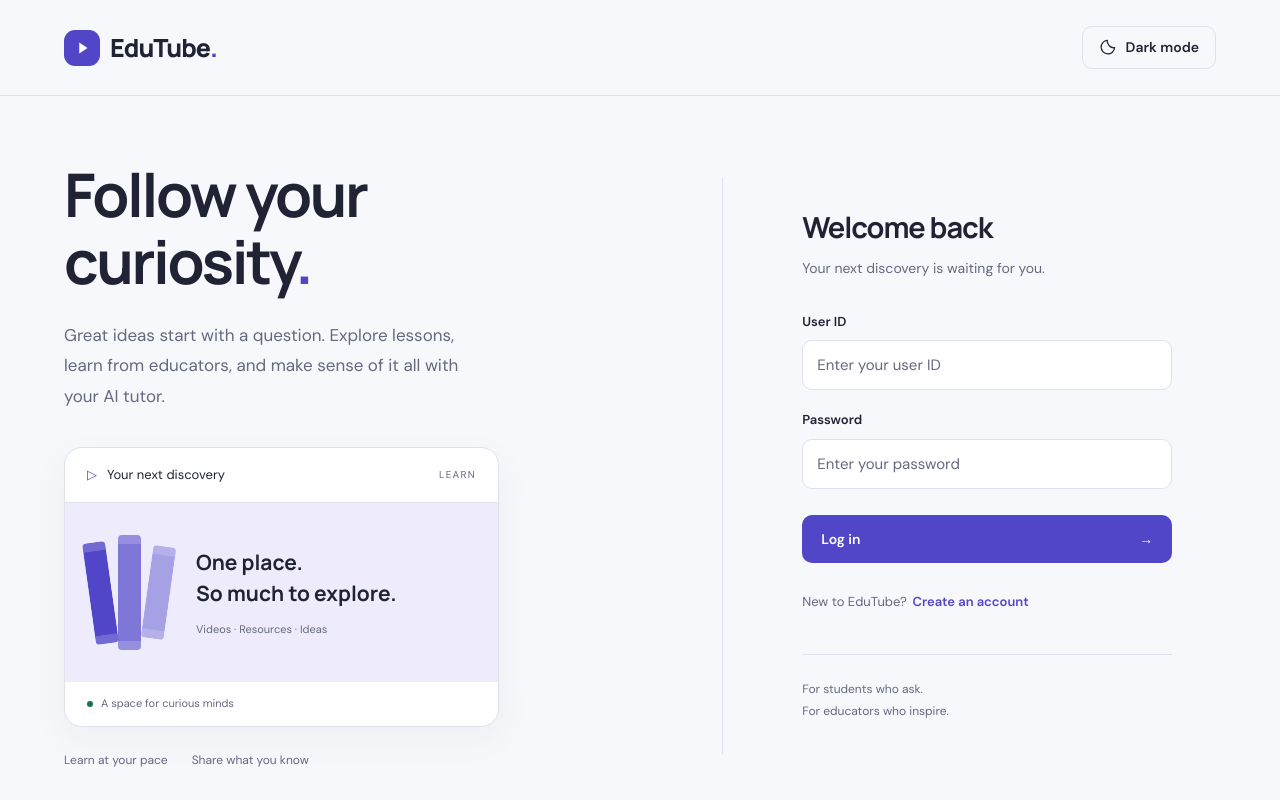
Test: blocked storage does not crash authentication or logout
The image size is (1280, 800).
Step 1. Type "learner" into the field labelled "User ID" → (987,365), box [802,340,1172,390]
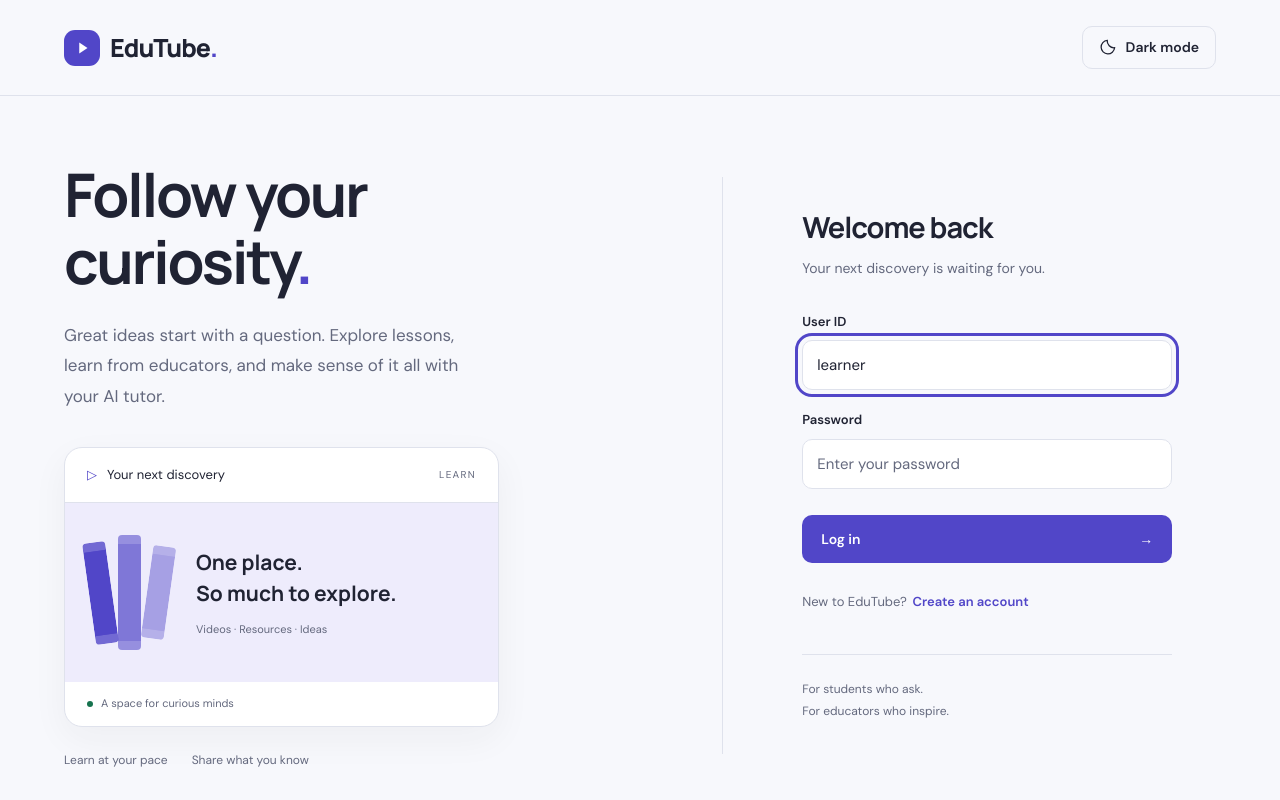
Step 2. Type "password" into the password field labelled "Password" → (987,464), box [802,439,1172,489]
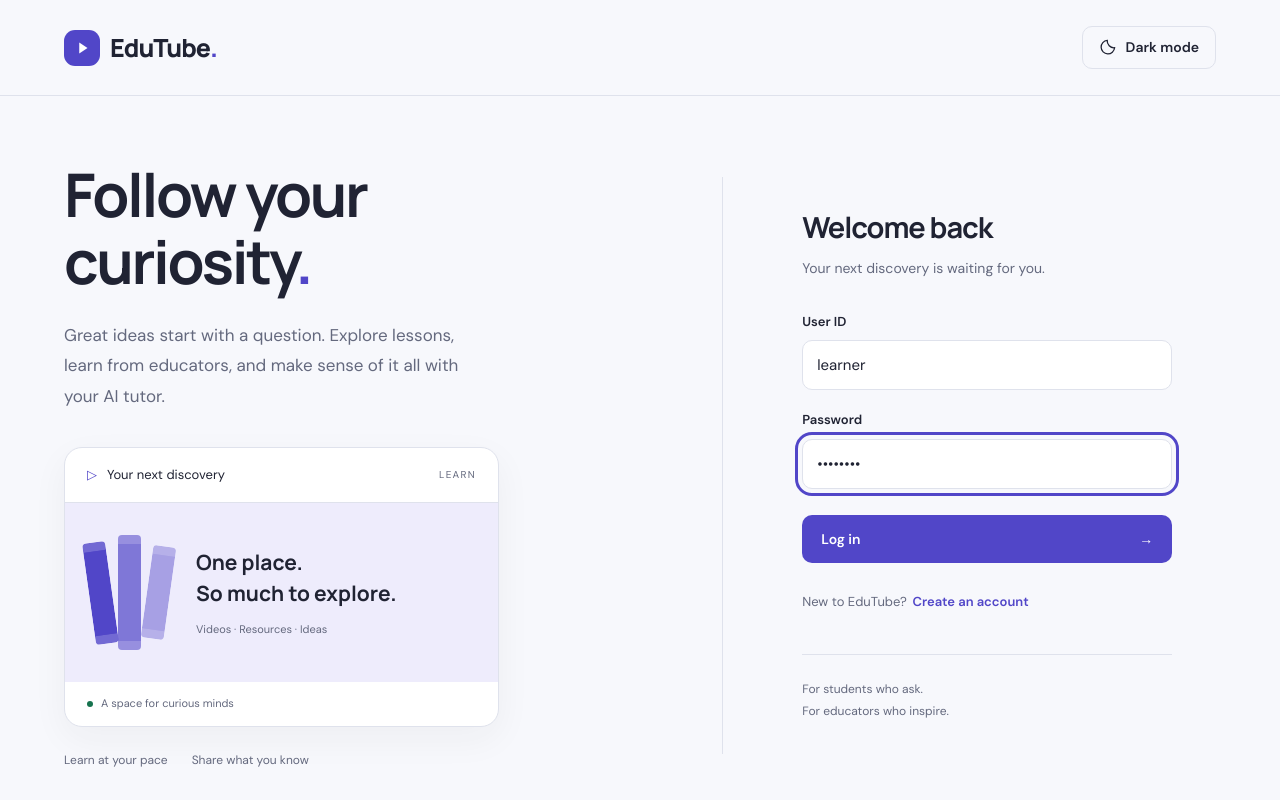
Step 3. Click the button "Log in →" → (841,539), box [802,515,1172,563]
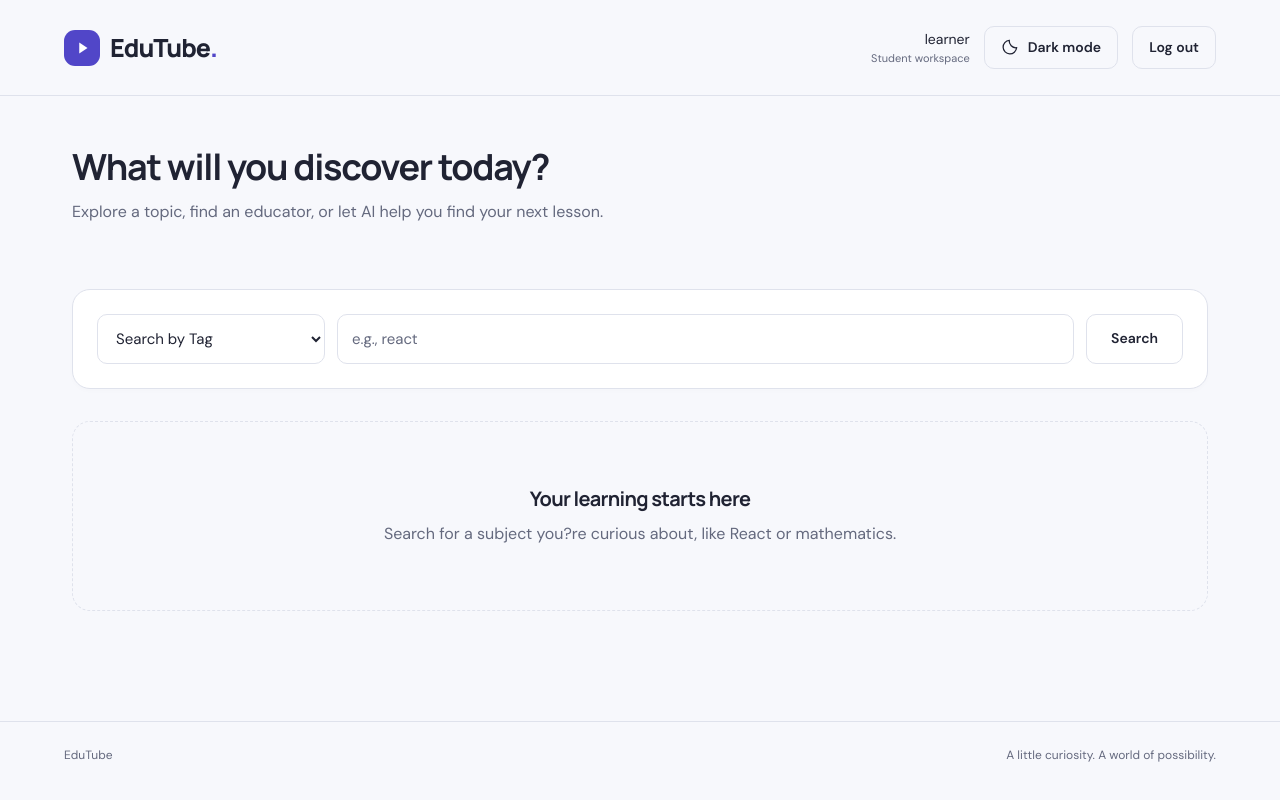
Step 4. Click the button "Log out" → (1174,48), box [1132,26,1216,69]
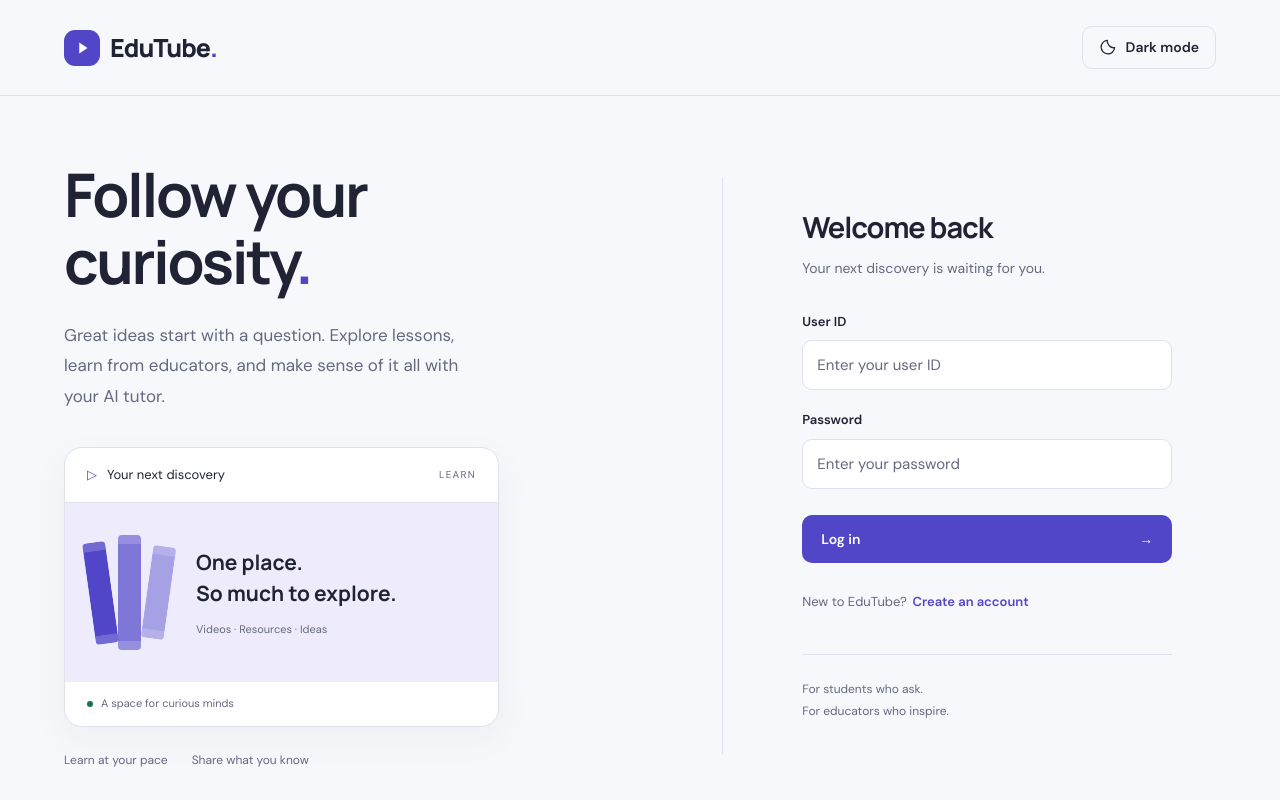
expect the heading "Welcome back" is shown: met, box [802,207,992,247]
